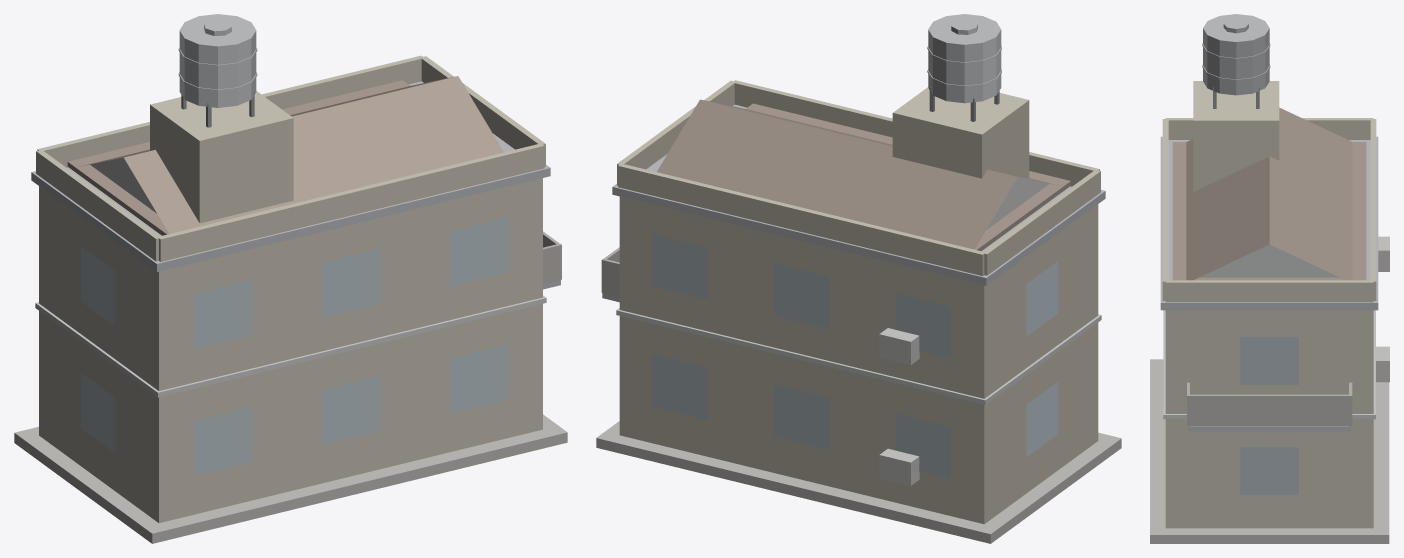
The model's file is 07_residential_low-05.glb.
The picture shows the model from 3 angles, left to right: view 1: azimuth 30°, elevation 25°; view 2: azimuth 150°, elevation 25°; view 3: azimuth 270°, elevation 25°; orthographic projection. The views are drawn at different scales.
Bounding box in the file's own units: 11 × 11.07 × 6.12.
